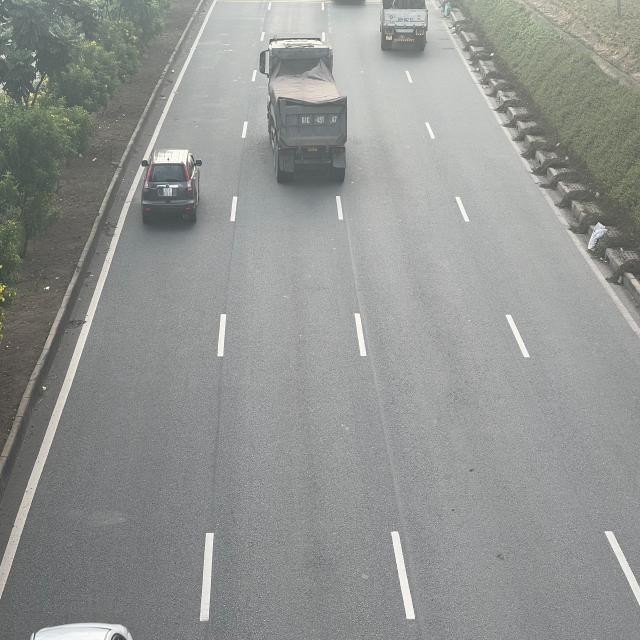car: (144, 152, 205, 224)
container: (258, 34, 346, 180)
truck: (381, 0, 431, 51)
